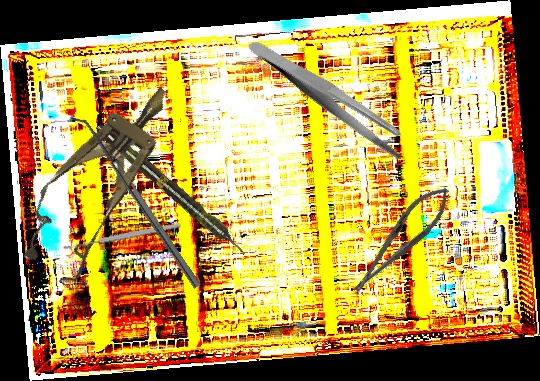Dressing Forceps: (247, 6, 413, 188)
Handpiece: (92, 119, 251, 261)
Needle Holder: (342, 177, 459, 303)
Spatula Surgical: (69, 108, 201, 294)
Speculum: (4, 65, 198, 292)
Surgical Spoon: (62, 221, 182, 252)
